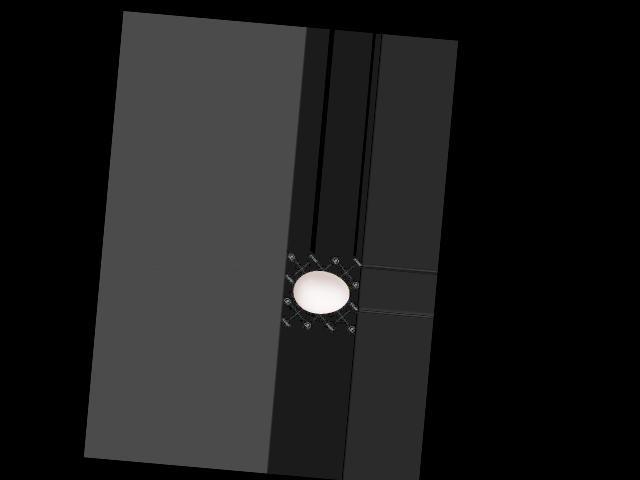egg: (291, 269, 350, 316)
